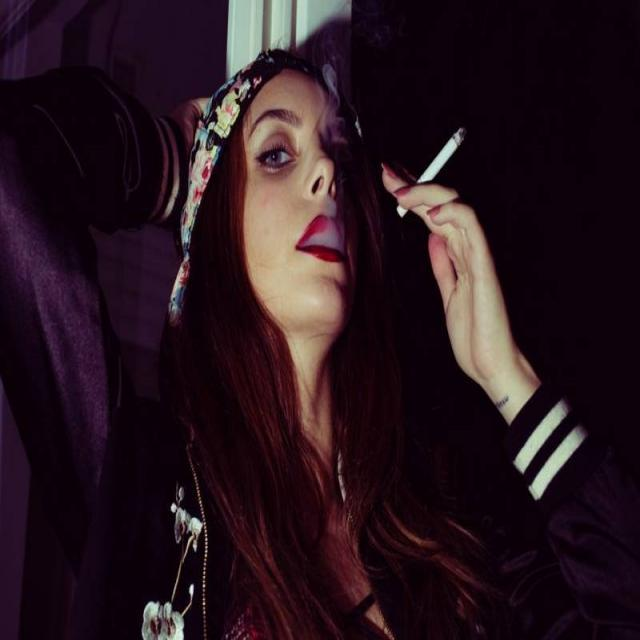smoking: (378, 123, 471, 223)
